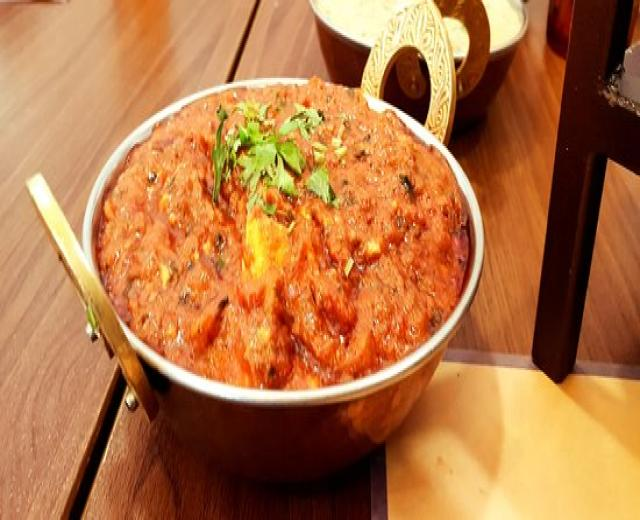kadai paneer: (83, 78, 483, 479), (51, 162, 457, 471), (362, 37, 455, 150)
